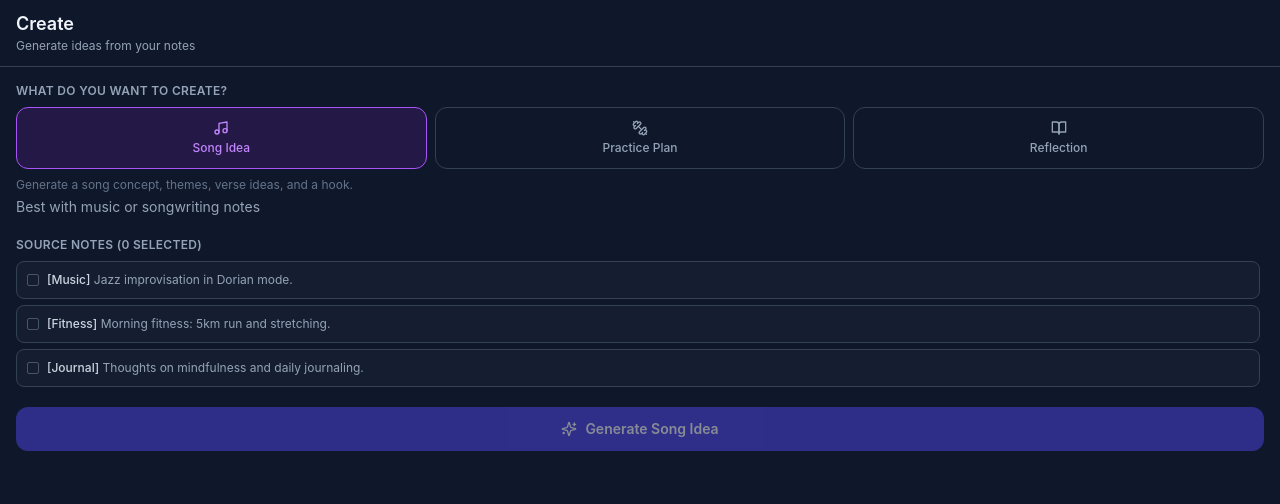
Test: CreatePage (Task 5.3) › loadError, validationError, generateError are independent
Click the button "[Music] Jazz improvisation in Dorian mode." at (69, 280), box [16,261,1260,299]
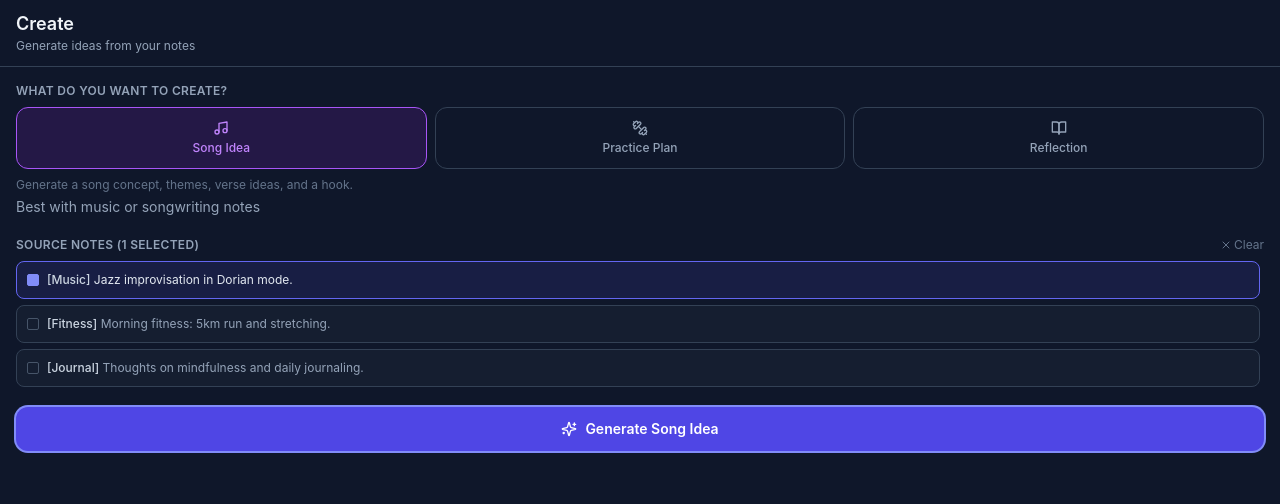
Click the button "Generate Song Idea" at (640, 429), box [16,407,1264,451]
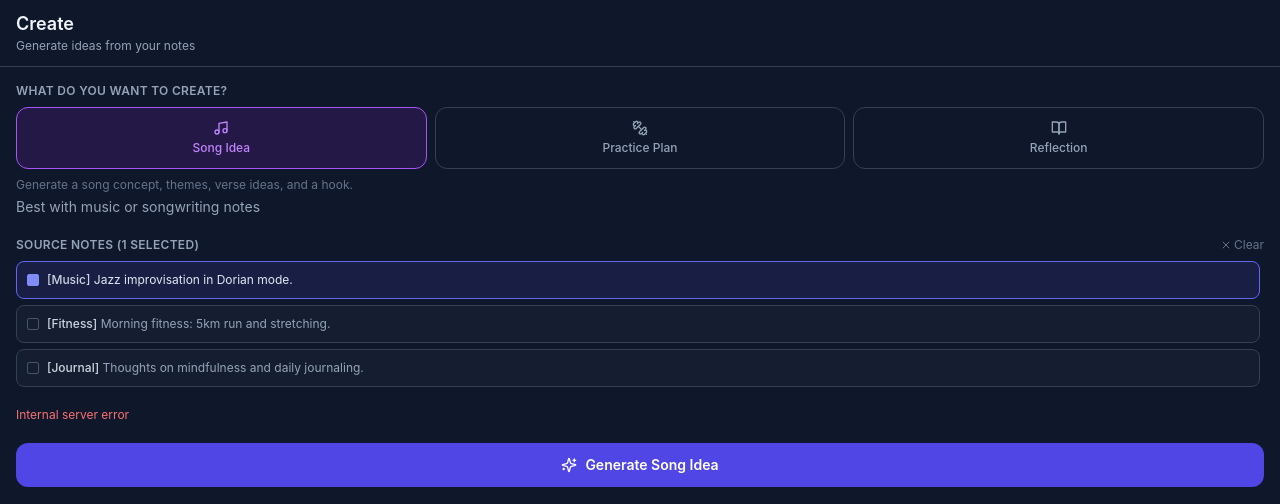
Expected: the text "Internal server error" is shown, [16,407,129,422]
